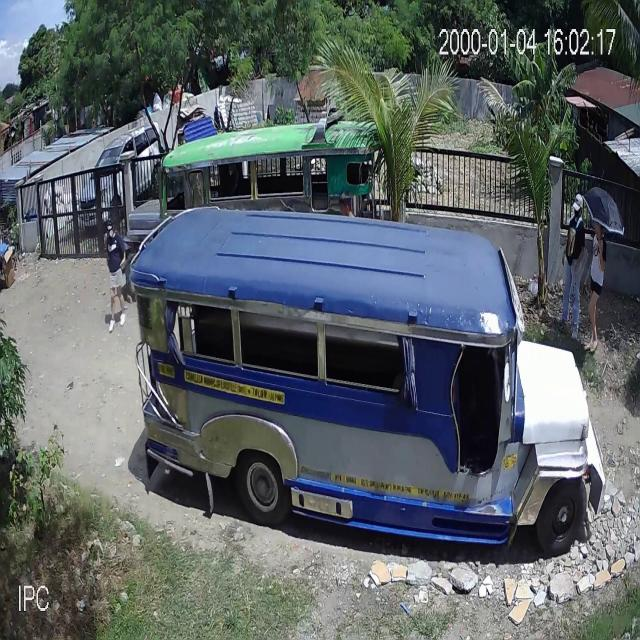standing: (559, 191, 587, 343), (586, 219, 609, 354)
walking: (105, 213, 126, 330), (342, 188, 359, 218)
